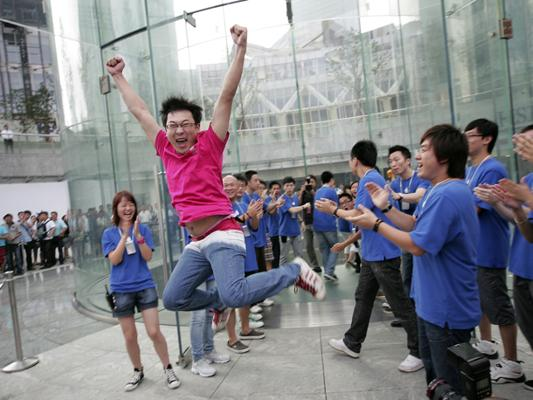person: (109, 31, 334, 317)
